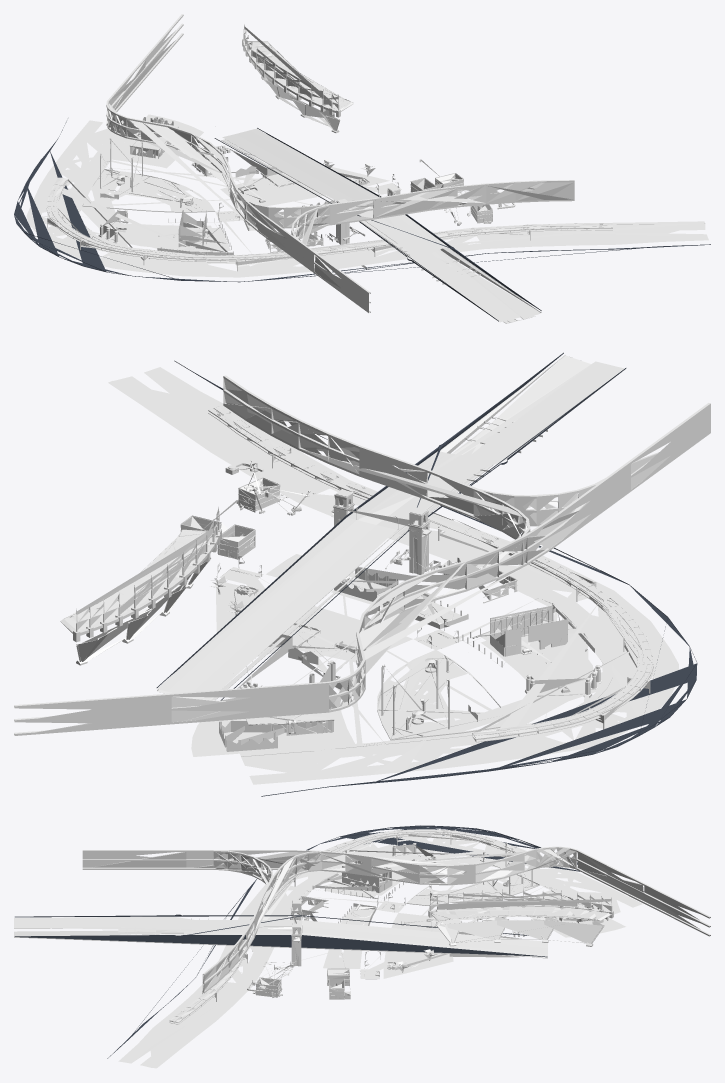
The model's file is street_island2_01.glb.
3 renders of one model, top to bottom at view 1: azimuth 30°, elevation 25°; view 2: azimuth 150°, elevation 25°; view 3: azimuth 270°, elevation 25°, orthographic. The views are drawn at different scales.
Visible parts, largest first — view 1: seg_382, seg_406, seg_403, seg_951, seg_956, seg_950, seg_565, seg_1018, seg_434, seg_834, seg_401, seg_371 (+18 smaller); view 2: seg_382, seg_956, seg_406, seg_403, seg_951, seg_950, seg_565, seg_1018, seg_434, seg_401, seg_834, seg_458 (+21 smaller); view 3: seg_956, seg_382, seg_403, seg_565, seg_406, seg_950, seg_930, seg_951, seg_434, seg_451, seg_401, seg_1018 (+17 smaller).
Boxes of the visible parts, <box> form: seg_382: <box>222,128,520,322</box>; seg_406: <box>26,120,238,277</box>; seg_403: <box>236,221,708,277</box>; seg_951: <box>244,180,574,228</box>; seg_956: <box>106,14,247,221</box>; seg_950: <box>246,201,370,312</box>; seg_565: <box>242,24,340,133</box>; seg_1018: <box>14,121,239,282</box>; seg_434: <box>221,139,541,323</box>; seg_834: <box>46,181,233,262</box>; seg_401: <box>220,167,389,209</box>; seg_371: <box>105,222,230,251</box>; seg_382: <box>157,361,625,699</box>; seg_956: <box>14,535,527,735</box>; seg_406: <box>240,590,678,784</box>; seg_403: <box>108,367,613,606</box>; seg_951: <box>223,375,530,564</box>; seg_950: <box>473,403,710,564</box>; seg_565: <box>73,507,221,665</box>; seg_1018: <box>261,585,697,796</box>; seg_434: <box>157,355,590,700</box>; seg_401: <box>215,580,412,662</box>; seg_834: <box>472,586,653,742</box>; seg_458: <box>377,649,508,740</box>; seg_956: <box>317,846,710,936</box>; seg_382: <box>14,916,547,957</box>; seg_403: <box>118,884,307,1068</box>; seg_565: <box>428,889,613,946</box>; seg_406: <box>277,835,642,914</box>; seg_950: <box>82,850,317,889</box>; seg_930: <box>14,914,547,957</box>; seg_951: <box>202,851,321,993</box>; seg_434: <box>14,918,547,958</box>; seg_451: <box>430,906,611,921</box>; seg_401: <box>383,913,453,978</box>; seg_1018: <box>272,825,579,871</box>.
Size of the model in its own units: 499 by 81.77 by 607.
